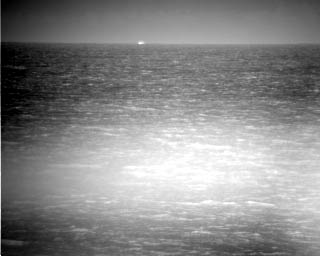Target: (139, 42, 144, 44)
